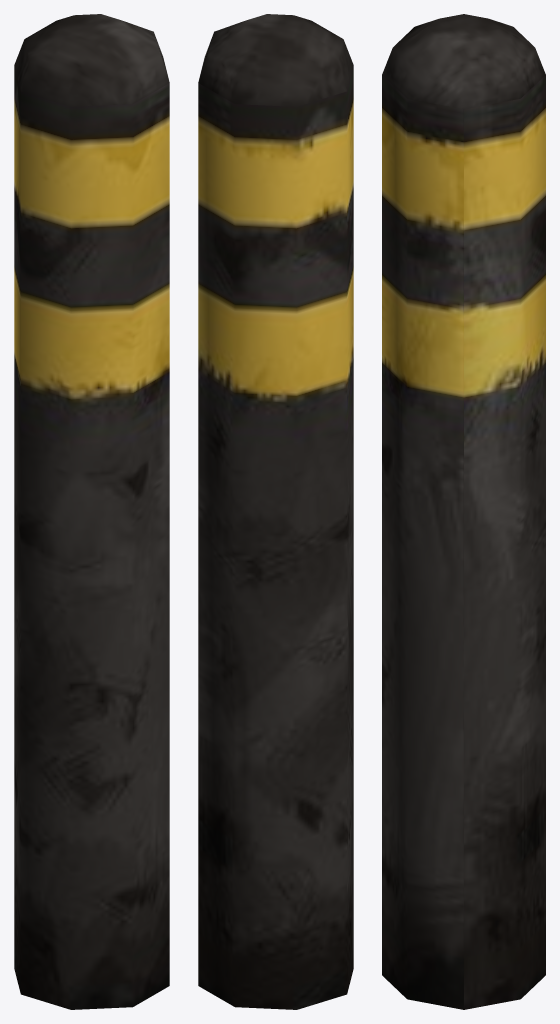
File: bollard.gltf
3 views of the same model, side by side, from view 1: azimuth 30°, elevation 25°; view 2: azimuth 150°, elevation 25°; view 3: azimuth 270°, elevation 25° (orthographic).
Visible parts, largest first — view 1: bollard; view 2: bollard; view 3: bollard.
Part boxes in pixels (left/top/right/bottom): bollard: left=14, top=14, right=169, bottom=1009; bollard: left=198, top=14, right=353, bottom=1009; bollard: left=382, top=14, right=545, bottom=1009.
Size of the model in its own units: 0.1412 by 0.9 by 0.1412.
Materials: 1 (1 with a texture image).
